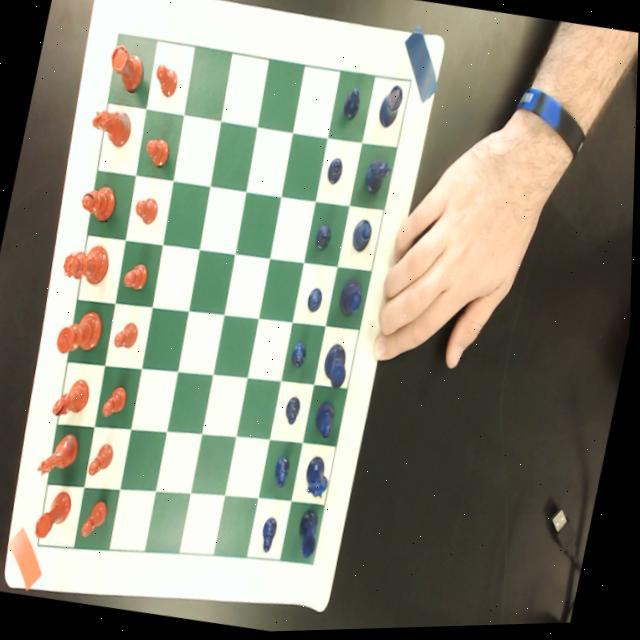B: (315, 400, 339, 442), (350, 220, 375, 257)
K: (321, 344, 354, 393)
N: (302, 456, 336, 504), (361, 158, 396, 198)
P: (261, 517, 283, 558), (272, 456, 295, 493), (341, 86, 364, 123), (325, 158, 346, 193), (305, 287, 327, 318), (314, 221, 334, 254), (285, 397, 305, 429), (290, 344, 311, 372)
Q: (338, 279, 367, 321)
R: (297, 510, 326, 561), (377, 85, 405, 133)
b: (53, 375, 95, 423), (79, 178, 121, 225)
k: (56, 304, 108, 361)
n: (36, 428, 85, 483), (88, 107, 135, 151)
p: (81, 498, 112, 541), (89, 442, 118, 480), (143, 136, 173, 172), (152, 63, 181, 100), (103, 385, 130, 420), (123, 261, 151, 293), (133, 196, 161, 228), (115, 322, 141, 351)
q: (61, 240, 113, 288)
r: (104, 42, 149, 97), (35, 486, 77, 544)
